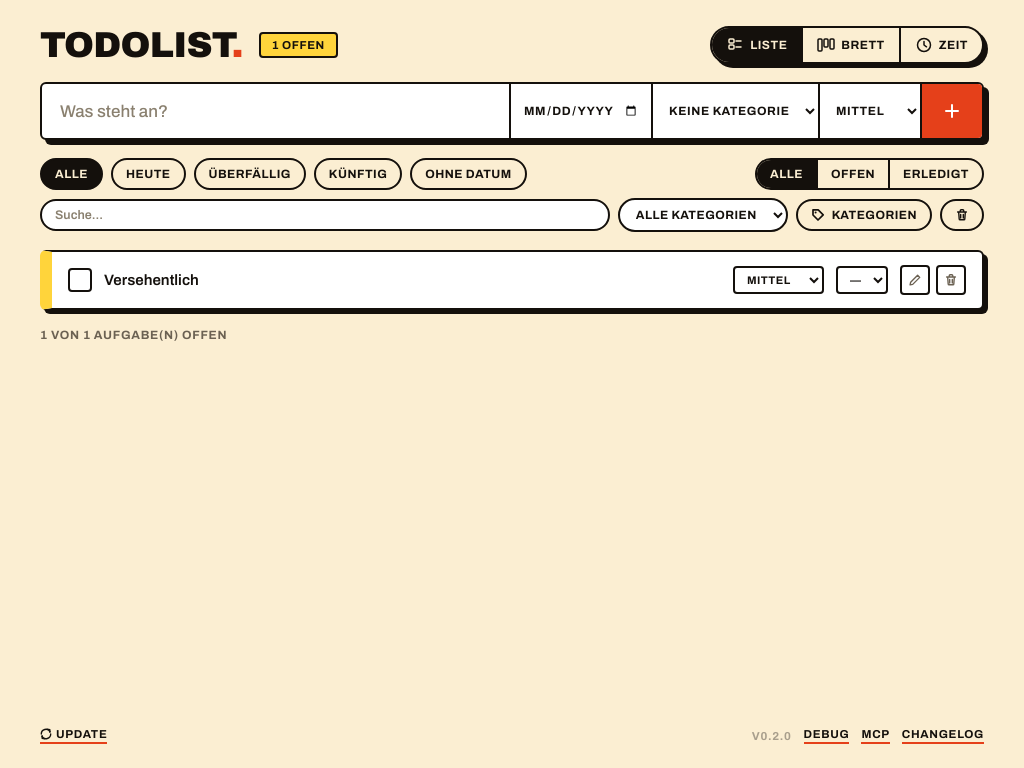
Test: die Rückgängig-Leiste › schliesst die Leiste ueber den Schliessen-Knopf, ohne wiederherzustellen
Check: the text "Versehentlich" is shown, box [104,272,199,288]
Click the button named "Löschen" at x=951, y=280, box [936,265,966,295]
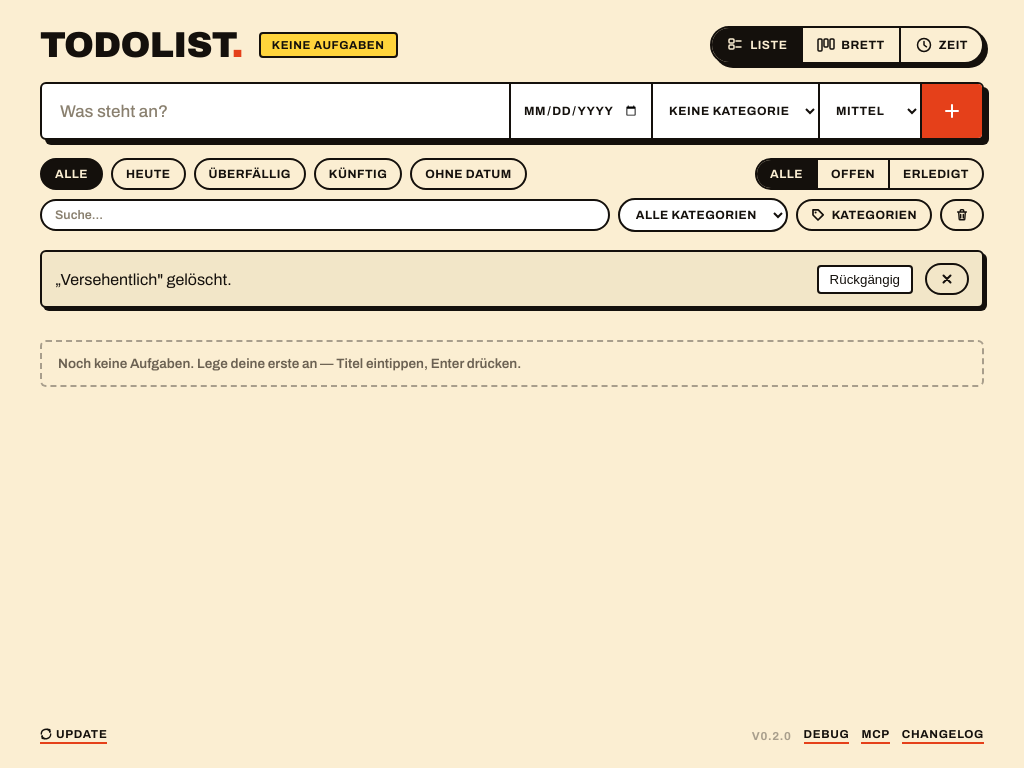
Check: the text "„Versehentlich\" gelöscht." is shown, box [55,270,232,288]
Click the button named "Hinweis schließen" at x=947, y=279, box [925,263,969,295]
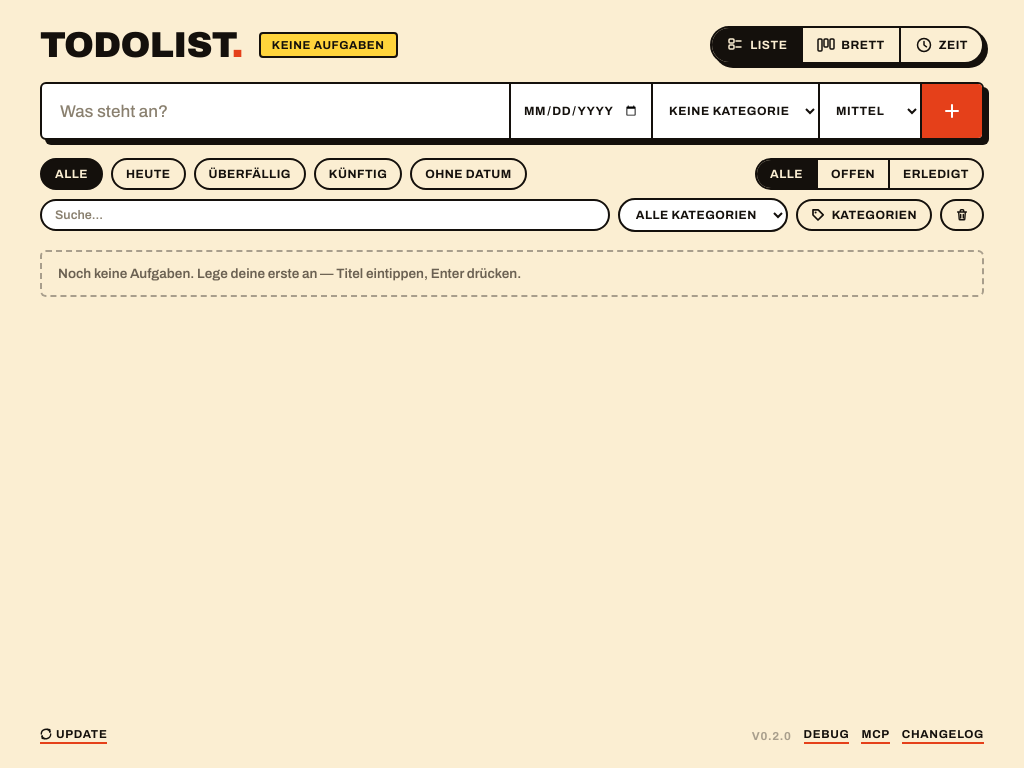
Check: the button "Rückgängig" is gone
